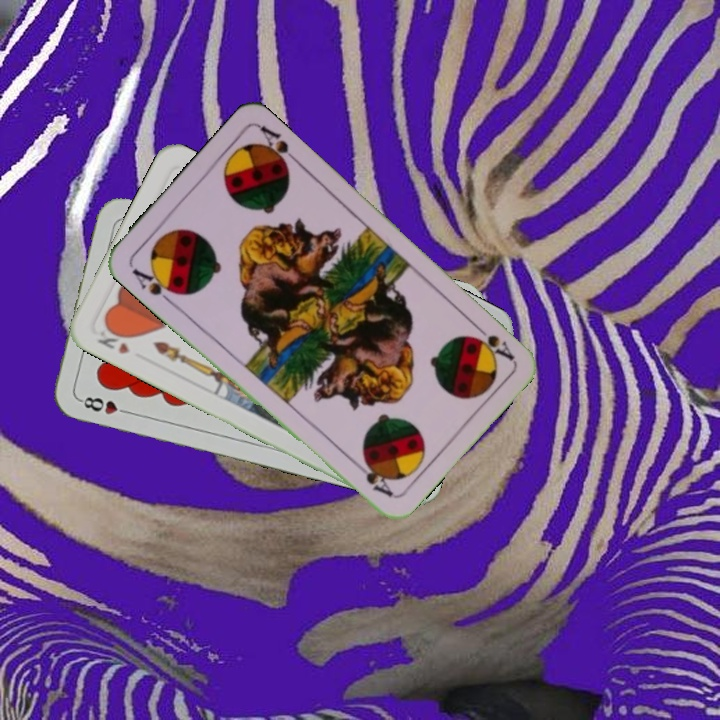H8: (76, 392, 134, 417)
HK: (93, 321, 133, 357)
SA: (128, 263, 182, 307), (467, 318, 517, 363)
